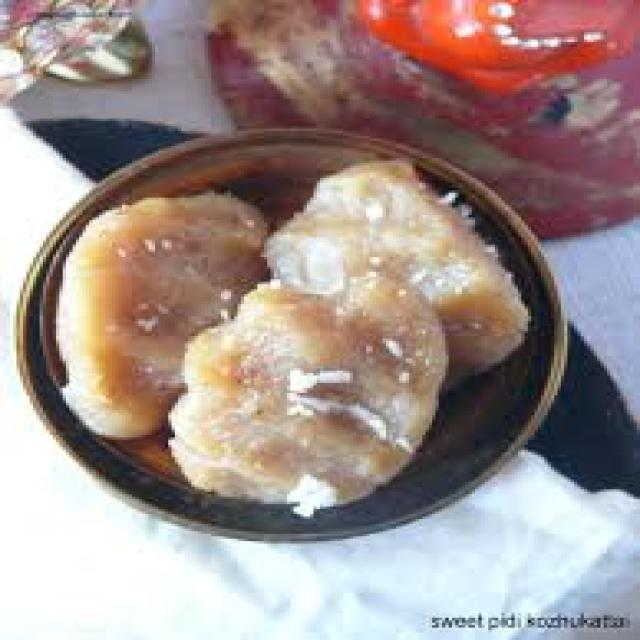pidi kolukattai: (11, 142, 558, 514)
